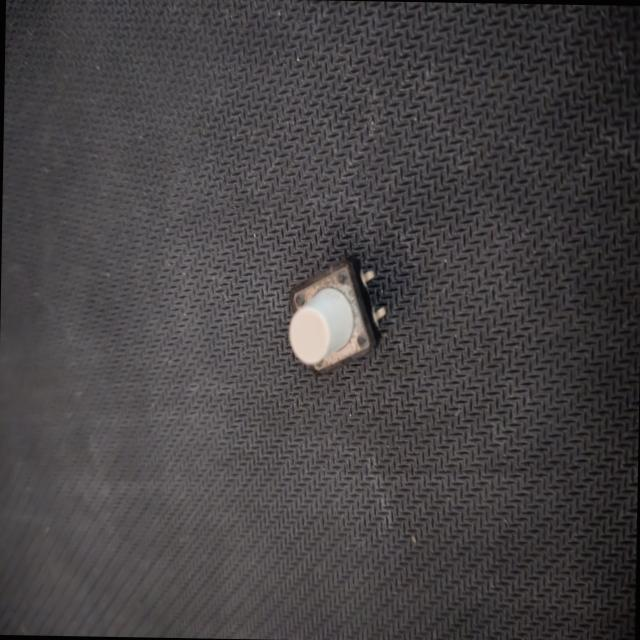switch: (277, 242, 395, 391)
